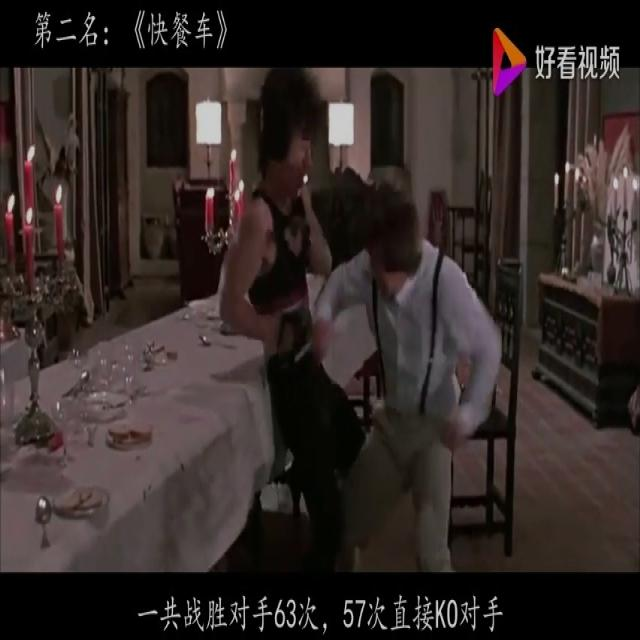fight: (215, 70, 502, 570)
